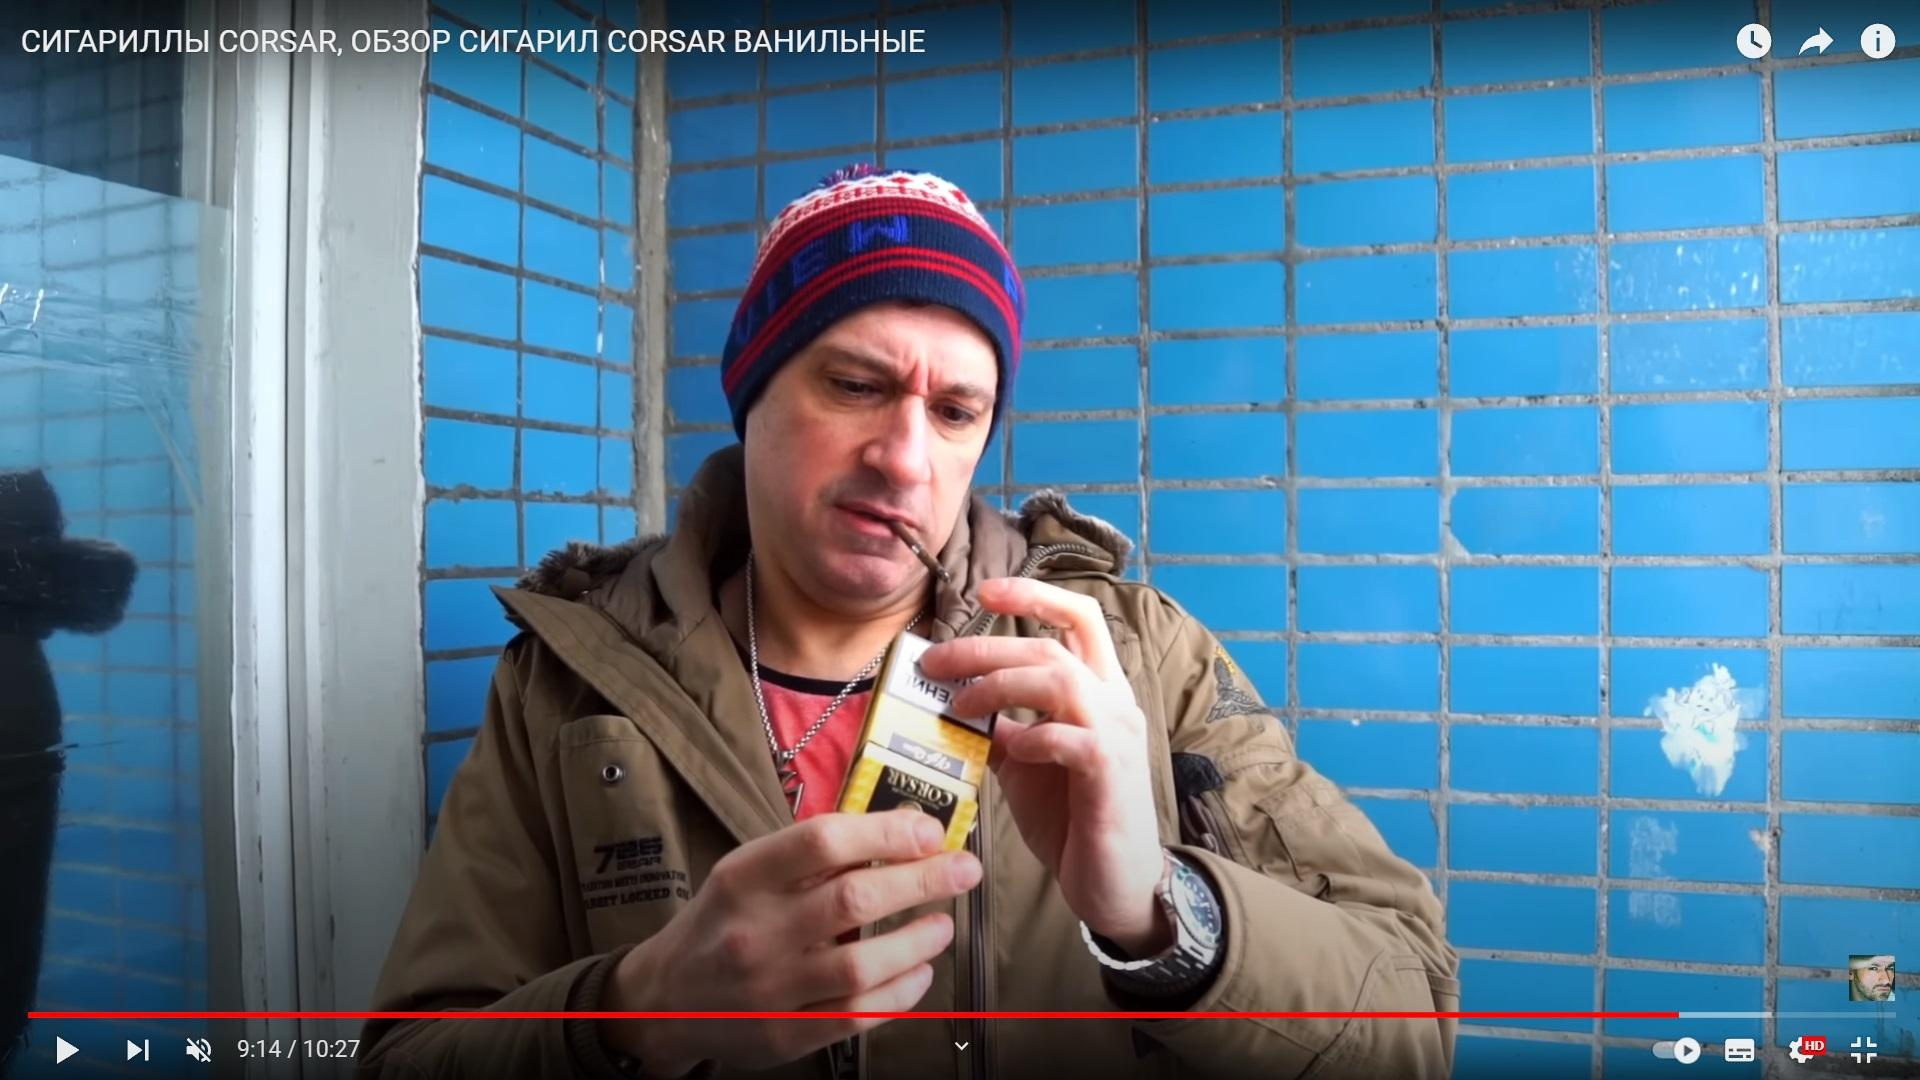cigarette: (882, 518, 951, 584)
